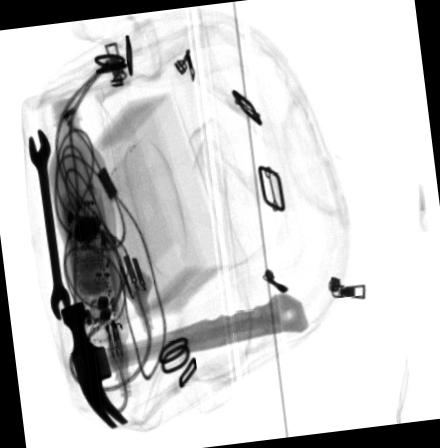Hammer: (59, 292, 309, 428)
Wrench: (28, 128, 70, 320)
